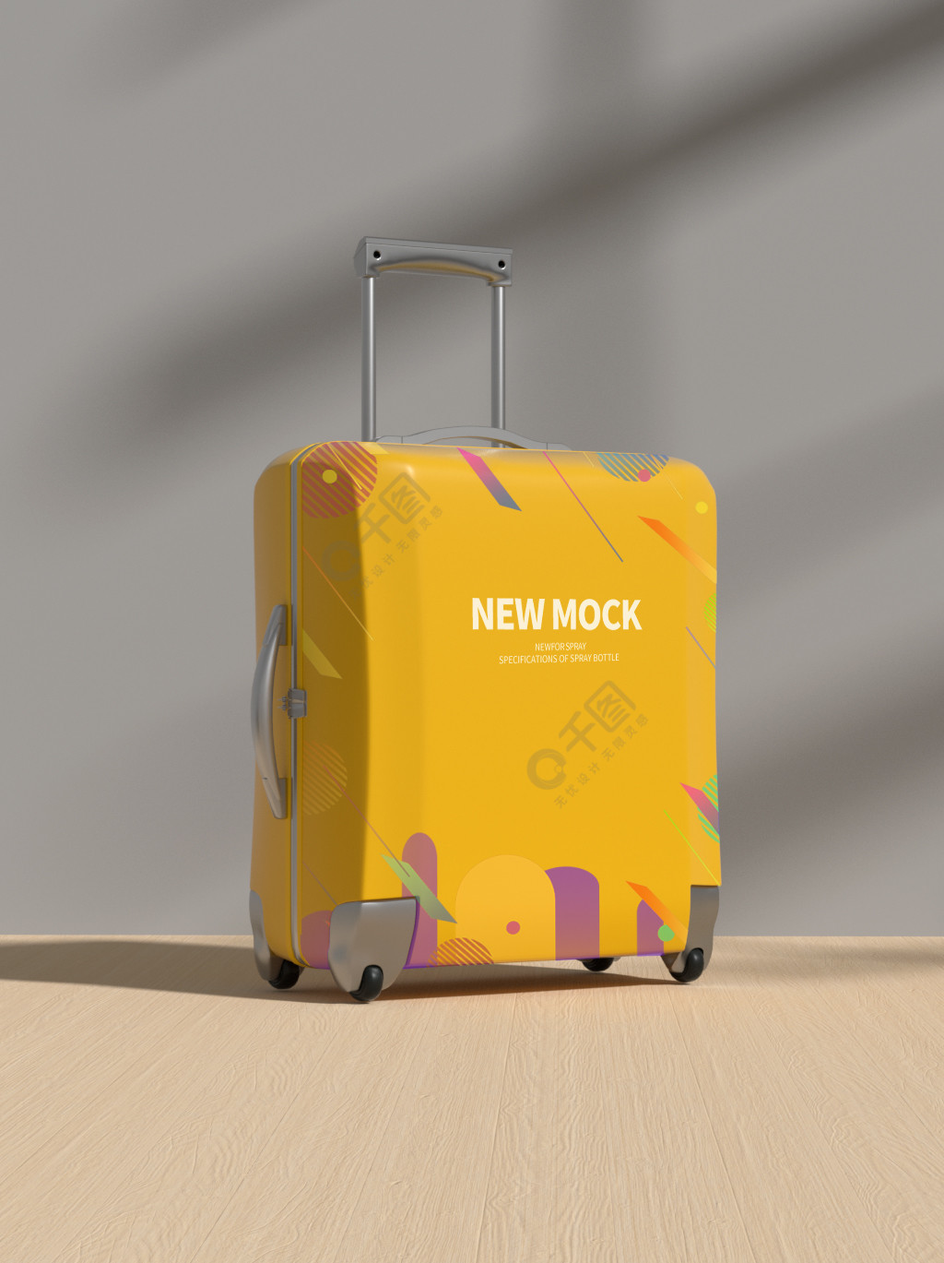box: (251, 442, 722, 968)
handle: (251, 601, 288, 816), (373, 425, 572, 450)
wheel: (252, 439, 254, 440)
